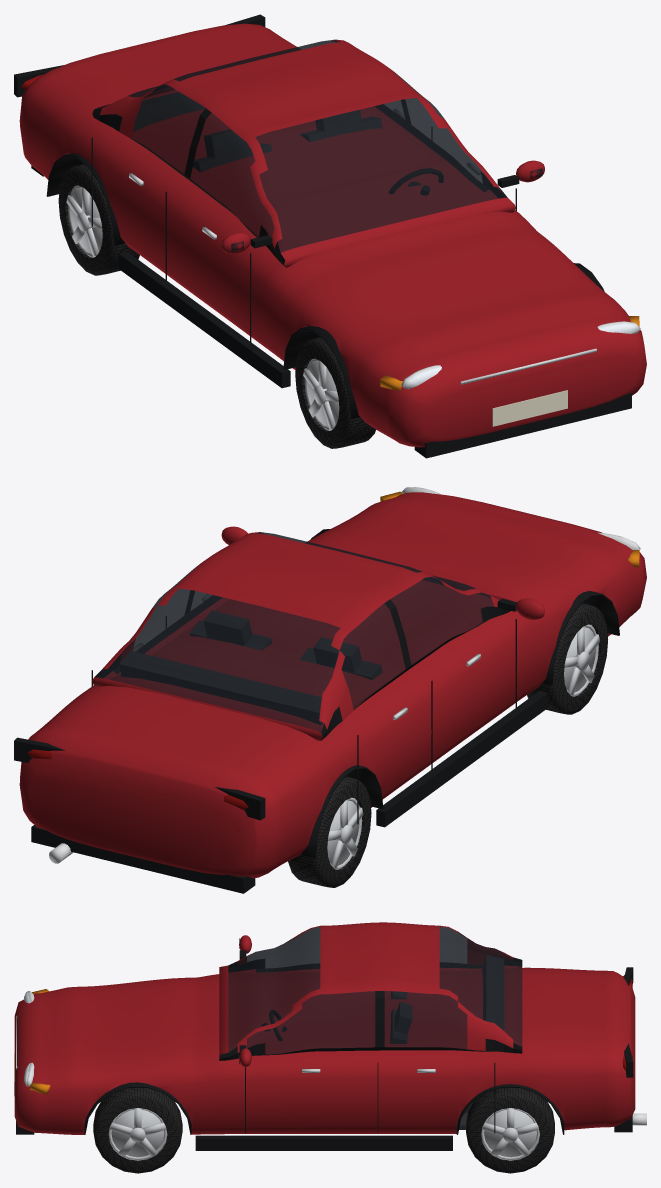
Rendered from car_sedan.glb.
3 views of the same model, one above another, from view 1: azimuth 30°, elevation 25°; view 2: azimuth 150°, elevation 25°; view 3: azimuth 270°, elevation 25° (orthographic). The views are drawn at different scales.
Parts seen in each view (by area): view 1: Body, wheel_FR, wheel_RR; view 2: Body, wheel_RR, wheel_FR; view 3: Body, wheel_FL, wheel_RL.
Boxes of the visible parts, x1=… form: Body: x1=14, y1=14, x2=646, y2=458; wheel_FR: x1=295, y1=337, x2=375, y2=448; wheel_RR: x1=58, y1=164, x2=139, y2=275; Body: x1=14, y1=487, x2=646, y2=893; wheel_RR: x1=288, y1=776, x2=371, y2=887; wheel_FR: x1=527, y1=603, x2=607, y2=714; Body: x1=14, y1=922, x2=646, y2=1150; wheel_FL: x1=93, y1=1088, x2=182, y2=1173; wheel_RL: x1=466, y1=1088, x2=554, y2=1173.
Size of the model in its own units: 2.24 by 1.45 by 4.83.
12 materials, 1 textured.
